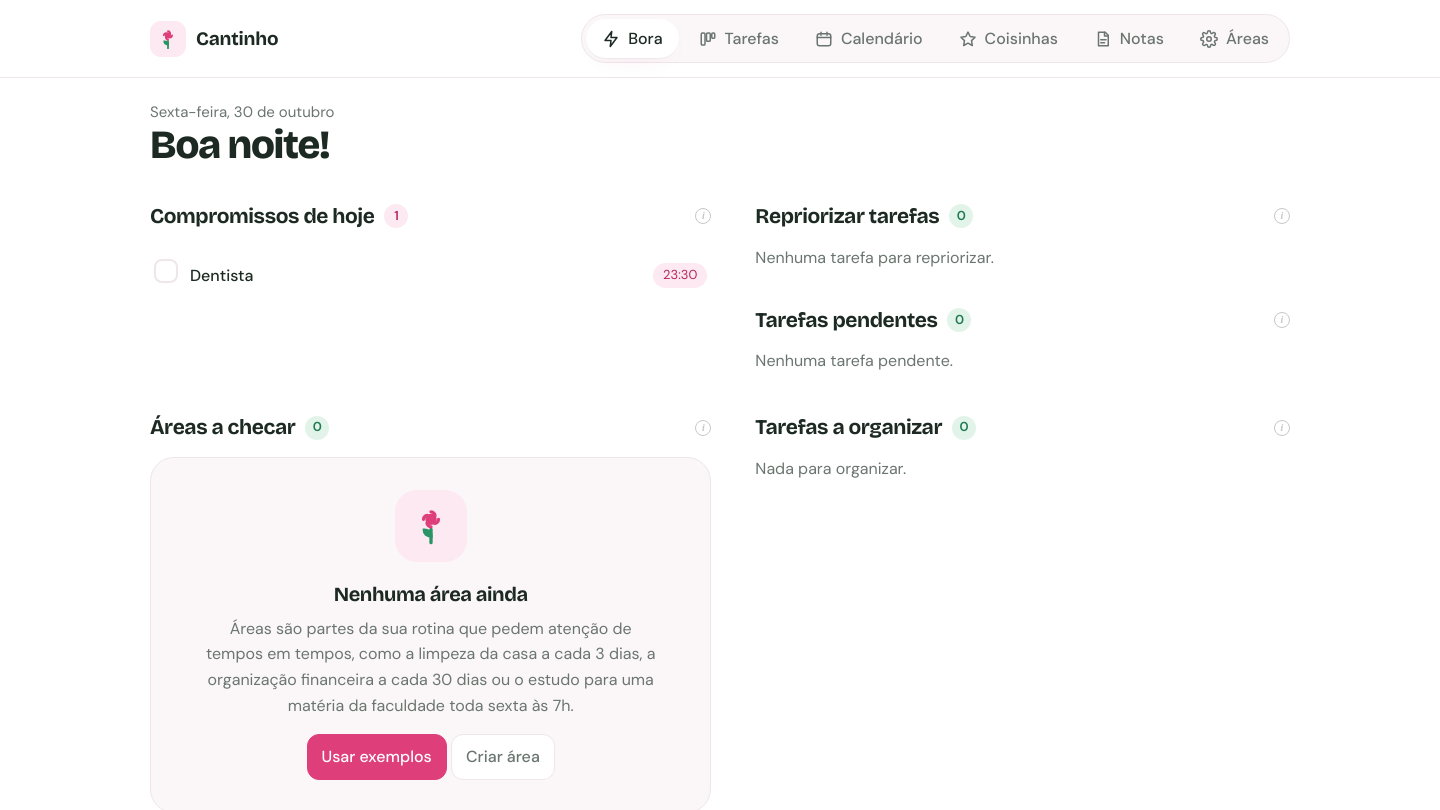
Test: Início (Bora) › compromissos de hoje aparecem e podem ser concluídos
Expected: the button "Dentista" is shown, [190, 258, 254, 293]
Expected: the text "23:30" is shown, [653, 263, 707, 288]
Click the button named "Concluir compromisso" at (166, 271), box [154, 259, 178, 283]
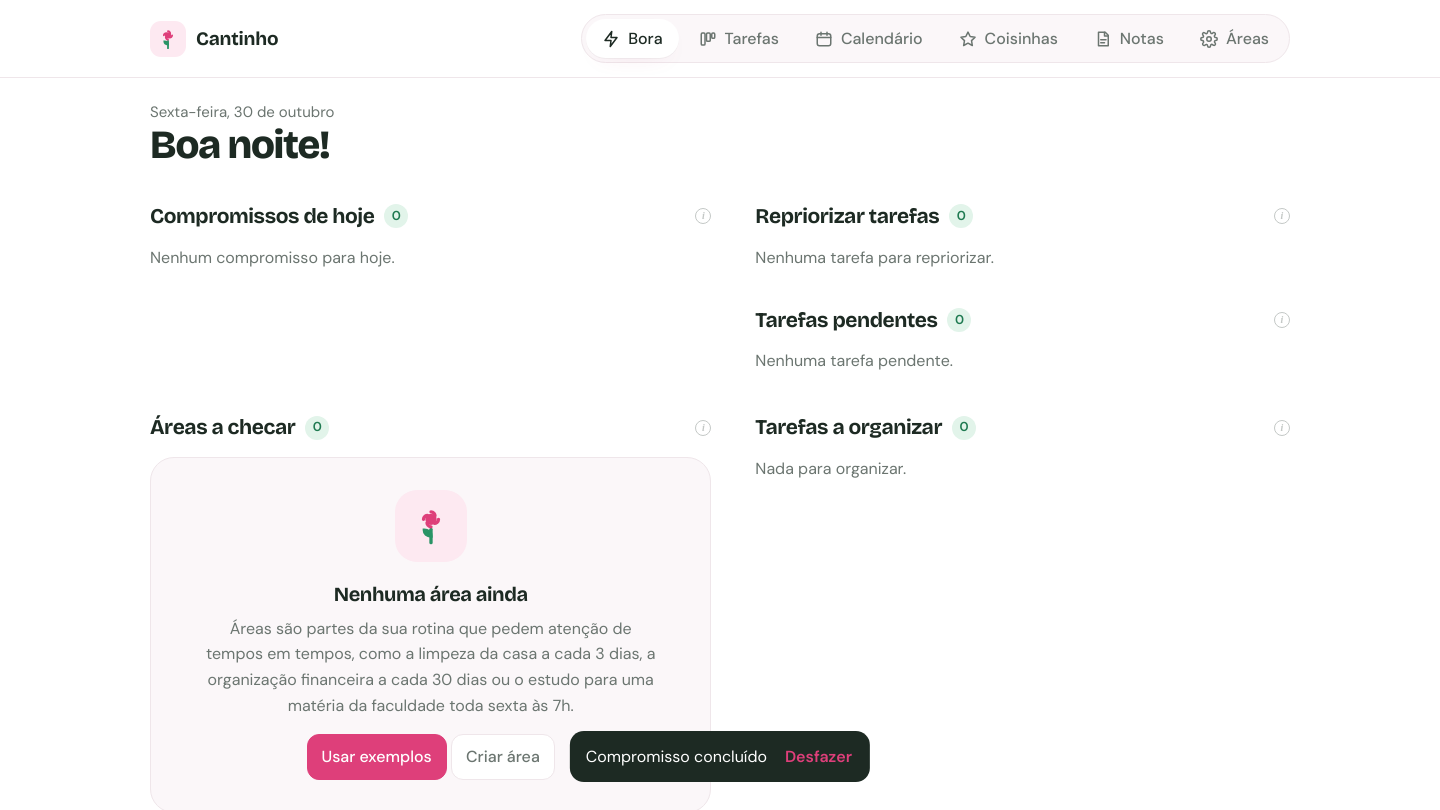
Expected: the text "Compromisso concluído" is shown, [586, 745, 767, 768]
